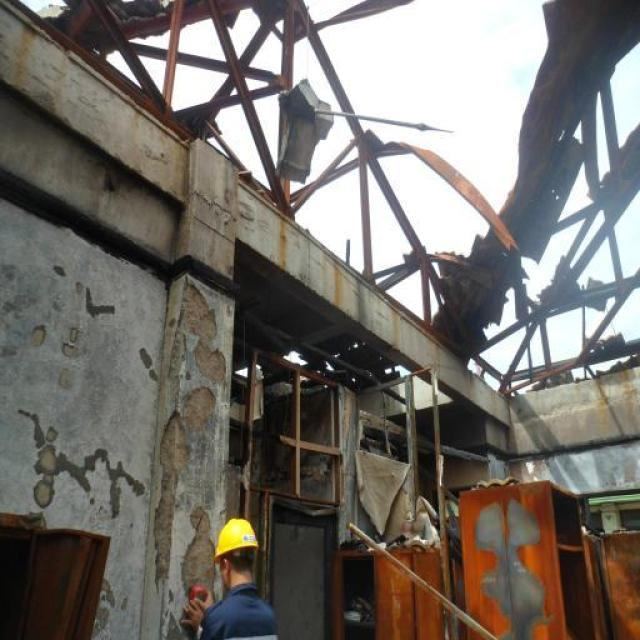D10: (154, 386, 216, 581), (168, 282, 226, 398), (181, 506, 215, 588)
